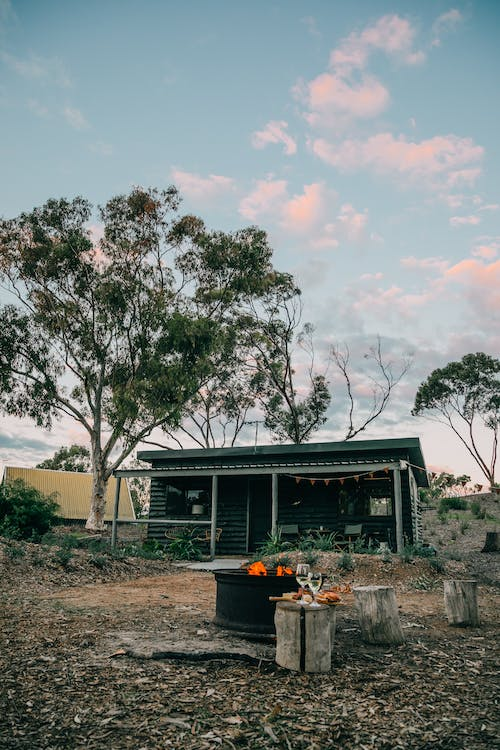alcohol: (294, 562, 312, 604), (305, 570, 324, 608)
